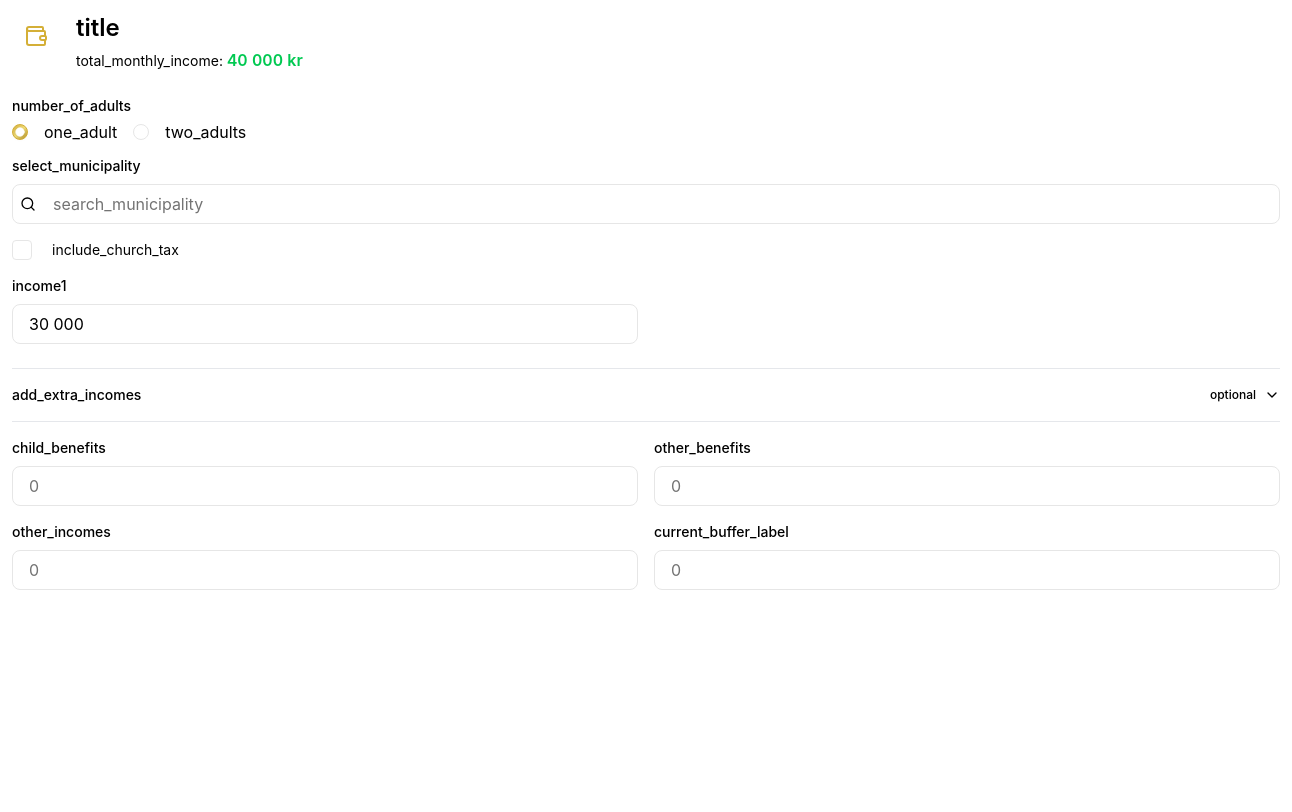
Scenario: Income › Secondary Income Tax Rate Slider › should hide slider when secondary income is cleared
Note: Expand secondary income section
Click the button with test id "extra-incomes-toggle" at {"x": 77, "y": 394}, box [12,369,1280,421]
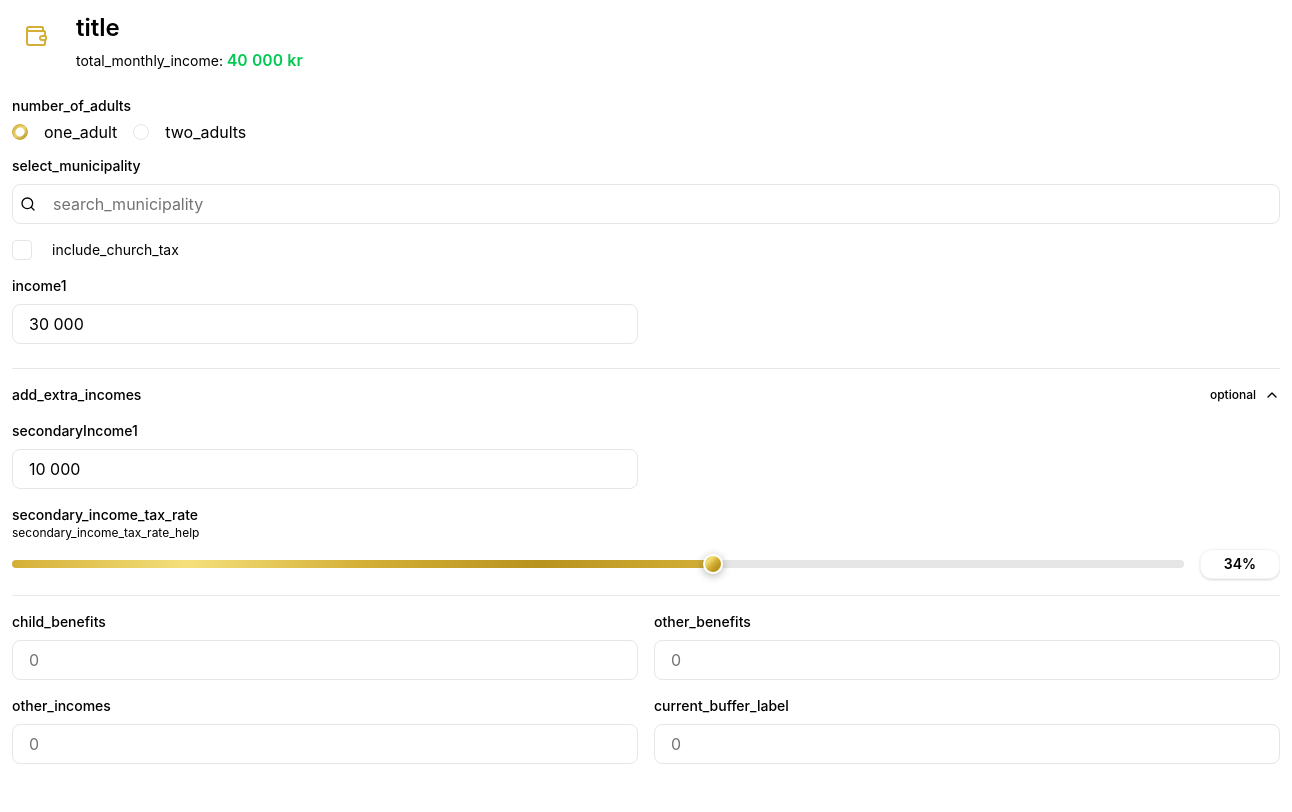
Expected: the number of sliders named "secondary_income_tax_rate_aria" is 2, [12,560,1184,568]; [1200,549,1280,579]
Replace the text in the field named "secondaryIncome1_aria" with "0" at {"x": 325, "y": 469}, box [12,449,638,489]
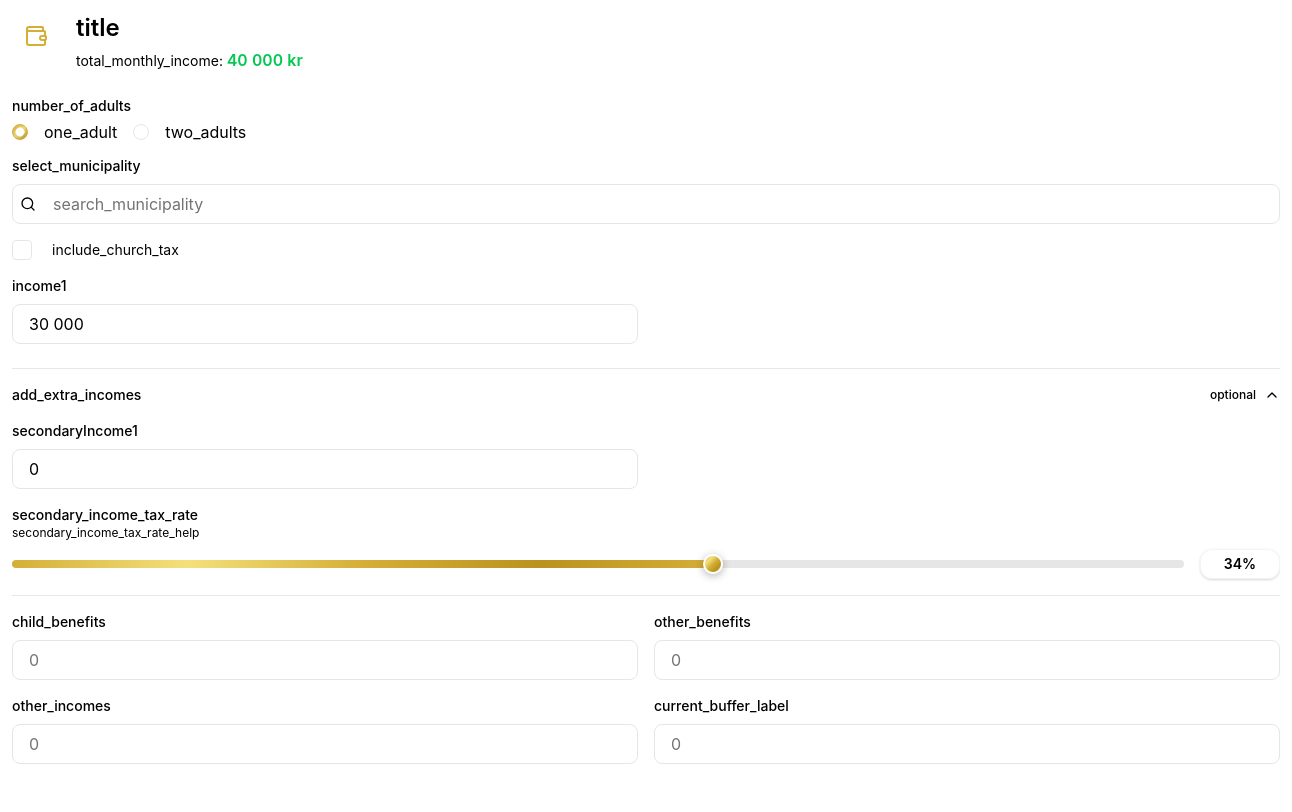
Leave the field named "secondaryIncome1_aria", box [12,449,638,489]
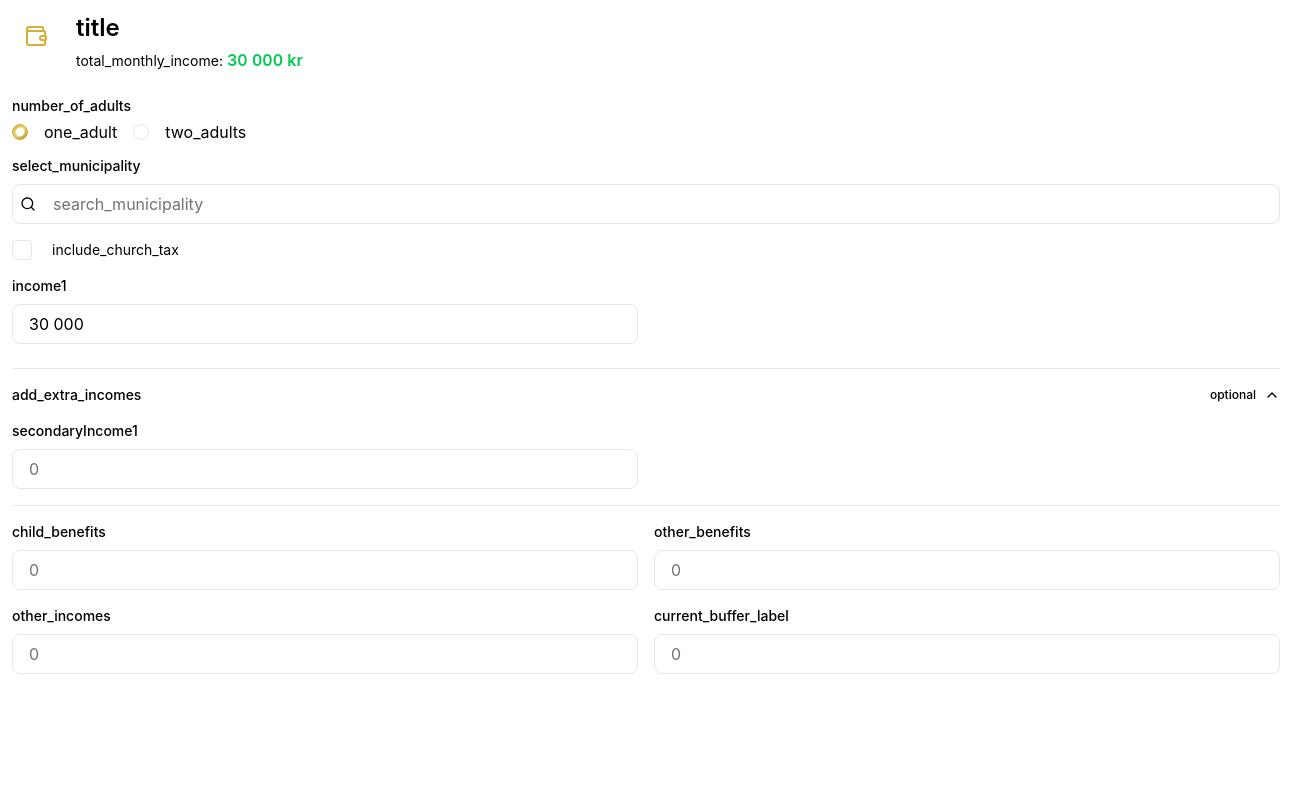
Expected: no sliders labelled "secondary_income_tax_rate_aria" are shown
